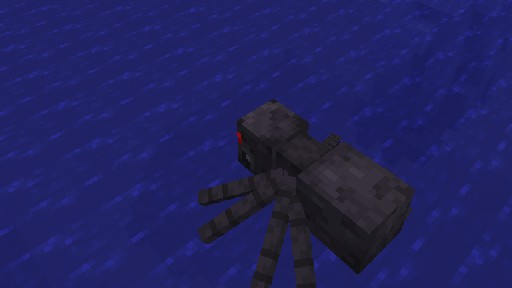spider: (197, 98, 415, 288)
